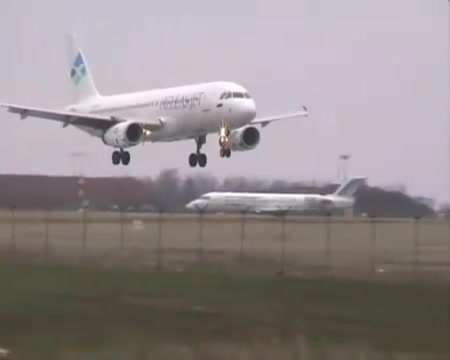aeroplane: (3, 29, 312, 169), (184, 176, 367, 219)
